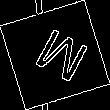M_SW: (23, 22, 87, 88)
